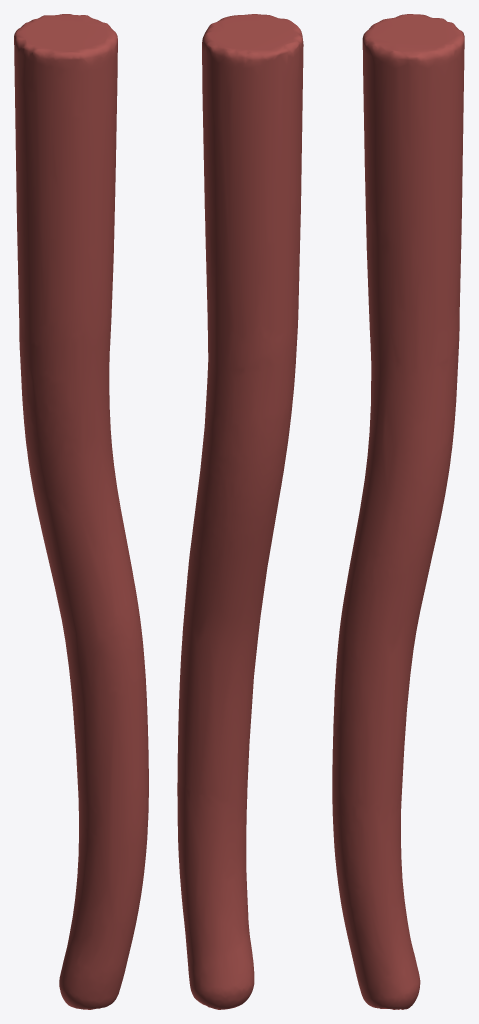
The model's file is FMA10951.glb.
The picture shows the model from 3 angles, left to right: view 1: azimuth 90°, elevation 25°; view 2: azimuth 210°, elevation 25°; view 3: azimuth 270°, elevation 25°; orthographic projection.
Parts seen in each view (by area): view 1: FMA10951; view 2: FMA10951; view 3: FMA10951.
Boxes of the visible parts, x1,y1,x2,y2 form: FMA10951: (14,14,148,1009); FMA10951: (177,14,303,1009); FMA10951: (332,14,464,1009).
Size of the model in its own units: 0.0237 by 0.2399 by 0.03.
